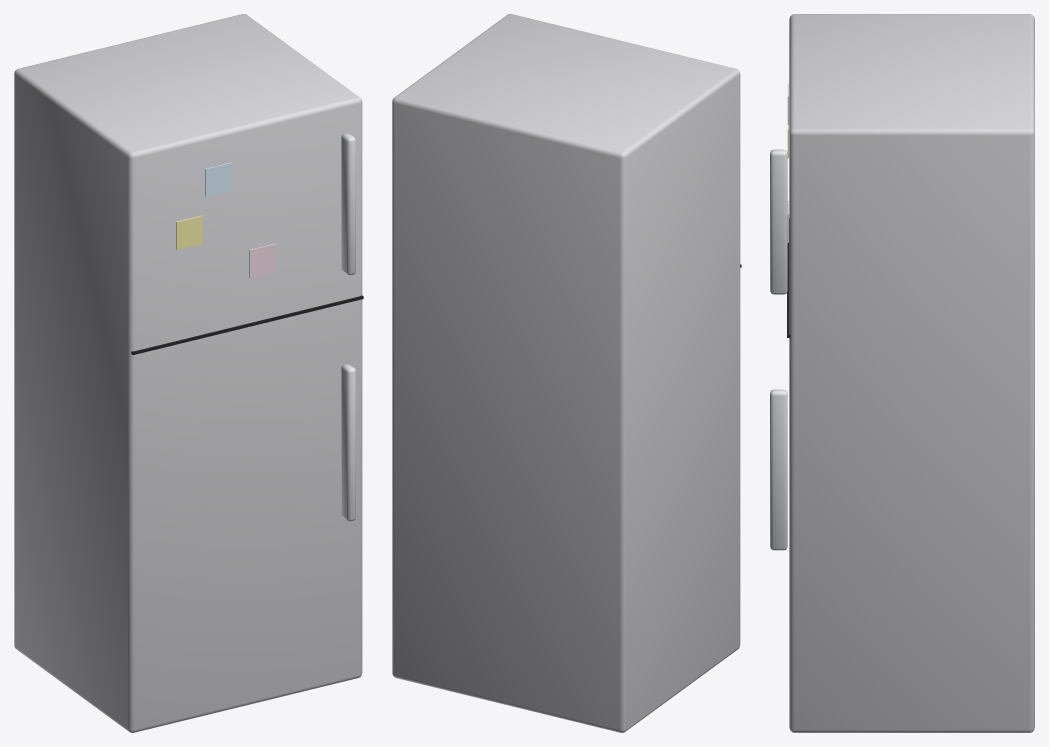
Rendered from fridge.glb.
3 renders of one model, left to right at view 1: azimuth 30°, elevation 25°; view 2: azimuth 150°, elevation 25°; view 3: azimuth 270°, elevation 25°, orthographic. The views are drawn at different scales.
Visible parts, largest first — view 1: Cube, Cube.002, Cube.004, Cube.001; view 2: Cube; view 3: Cube, Cube.002.
Boxes of the visible parts, bbox=[...] form: Cube: bbox=[14, 14, 362, 732]; Cube.002: bbox=[341, 133, 355, 521]; Cube.004: bbox=[176, 162, 275, 277]; Cube.001: bbox=[131, 295, 363, 354]; Cube: bbox=[392, 14, 740, 732]; Cube: bbox=[789, 14, 1034, 732]; Cube.002: bbox=[770, 149, 787, 550].
Size of the model in its own units: 0.8 by 1.9 by 0.755.
4 materials, 4 textured.
